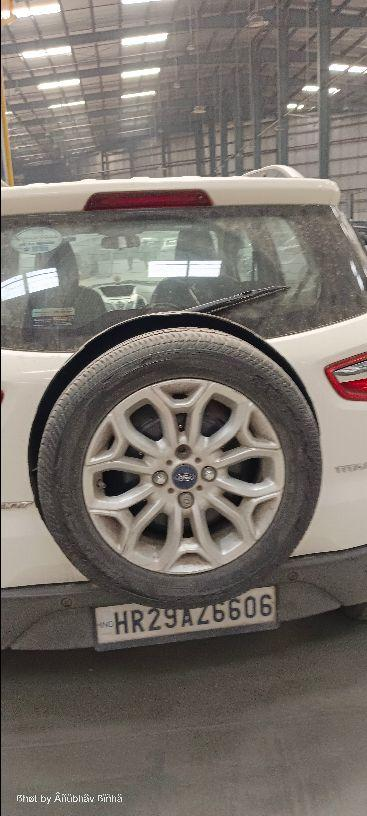license_plate: (91, 583, 280, 650)
